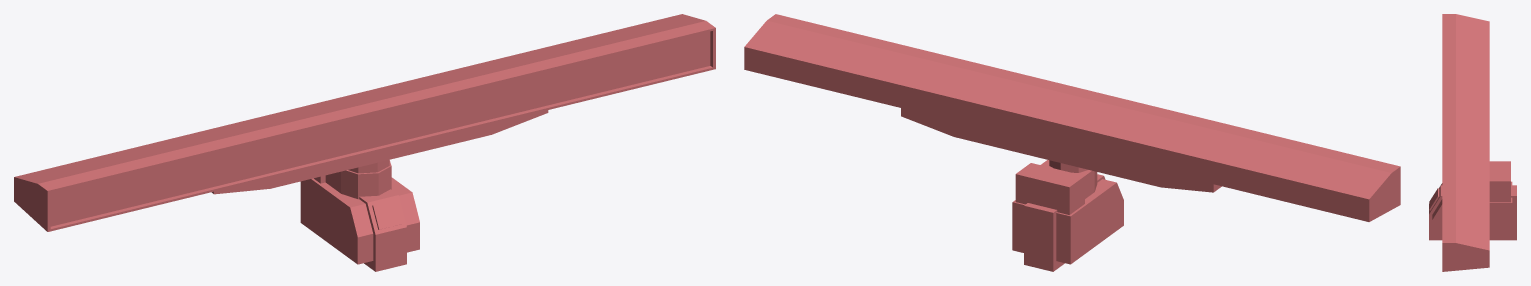
Rendered from ops_39.obj.
3 views of the same model, side by side, from view 1: azimuth 30°, elevation 25°; view 2: azimuth 150°, elevation 25°; view 3: azimuth 270°, elevation 25° (orthographic). The views are drawn at different scales.
Parts seen in each view (by area): view 1: radar, body; view 2: radar, body; view 3: radar, body.
Part boxes in pixels (bbox=[...]): radar: bbox=[14, 14, 715, 231]; body: bbox=[300, 160, 419, 271]; radar: bbox=[744, 14, 1400, 221]; body: bbox=[1012, 160, 1123, 271]; radar: bbox=[1442, 14, 1489, 271]; body: bbox=[1429, 161, 1516, 240].
Bounding box in the file's own units: 4 × 0.8678 × 0.6482.
